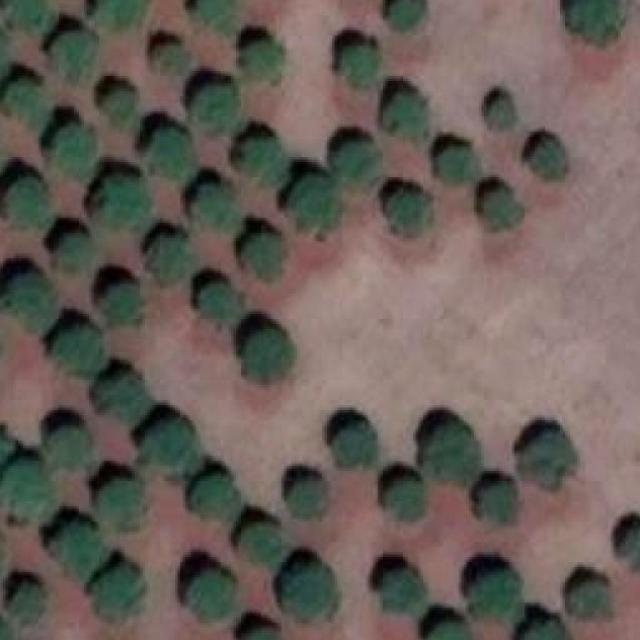Tree: (518, 425, 582, 491), (416, 417, 477, 486), (0, 448, 51, 522), (285, 554, 338, 623), (3, 266, 59, 330), (290, 167, 343, 233), (140, 412, 198, 471), (558, 0, 632, 44), (47, 120, 100, 180), (234, 135, 290, 190), (92, 562, 146, 618), (0, 175, 54, 231), (97, 170, 151, 226), (190, 74, 244, 130), (373, 560, 428, 614), (143, 125, 196, 180), (178, 567, 234, 618), (94, 268, 145, 324), (378, 89, 428, 145), (474, 562, 519, 623), (425, 140, 484, 185), (188, 180, 239, 231), (96, 471, 145, 524), (97, 373, 148, 423), (246, 329, 292, 383), (388, 185, 433, 239), (0, 76, 49, 125), (52, 517, 102, 565), (334, 38, 383, 86), (49, 30, 99, 76), (59, 322, 104, 373), (340, 140, 384, 190), (195, 469, 236, 519), (525, 132, 570, 177), (479, 86, 523, 132), (239, 35, 283, 81), (570, 574, 611, 623), (145, 231, 185, 281), (474, 481, 519, 525), (234, 522, 277, 567), (388, 473, 428, 521), (337, 423, 378, 469), (246, 230, 285, 278), (52, 423, 92, 469), (377, 0, 428, 35), (11, 579, 47, 628), (97, 81, 141, 120), (180, 0, 235, 30), (89, 0, 144, 30), (420, 609, 473, 640), (150, 35, 188, 74), (200, 278, 236, 319), (54, 228, 92, 266), (474, 185, 514, 221), (292, 473, 327, 511), (0, 0, 48, 25), (522, 614, 566, 640), (241, 619, 286, 640), (626, 524, 640, 572), (0, 617, 20, 640)
